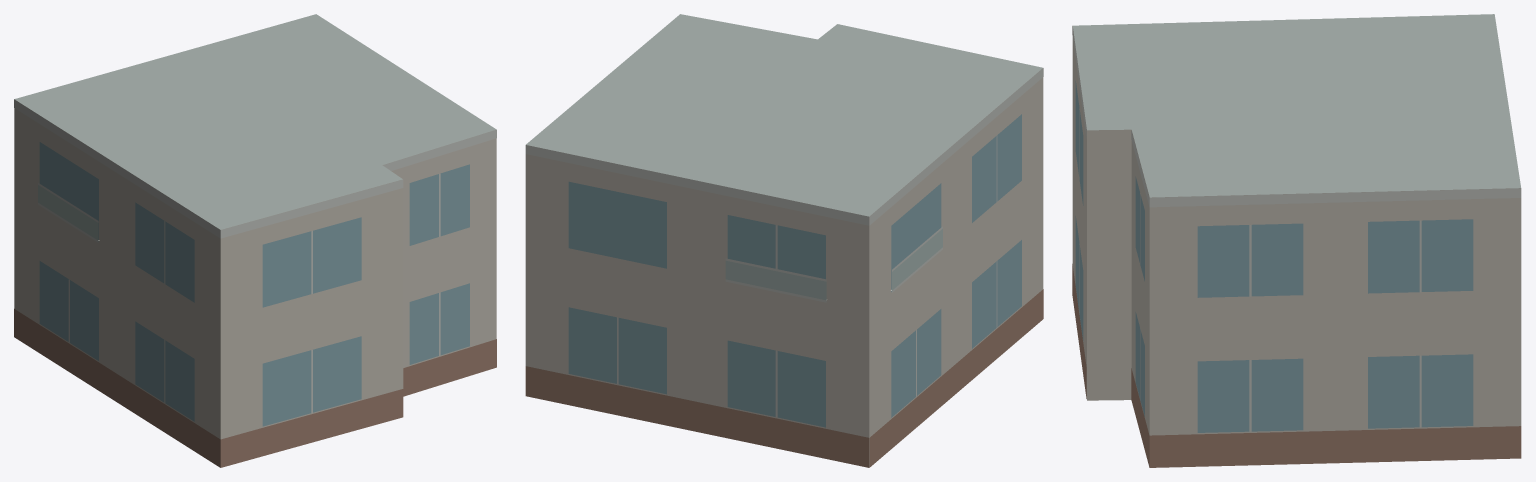
The model's file is survey-upis-32757098.glb.
3 renders of one model, left to right at view 1: azimuth 30°, elevation 25°; view 2: azimuth 150°, elevation 25°; view 3: azimuth 270°, elevation 25°, orthographic. The views are drawn at different scales.
Visible parts, largest first — view 1: survey-upis-32757098.tmp; view 2: survey-upis-32757098.tmp; view 3: survey-upis-32757098.tmp.
Boxes of the visible parts, x1,y1,x2,y2 form: survey-upis-32757098.tmp: (14,14,496,467); survey-upis-32757098.tmp: (525,14,1043,467); survey-upis-32757098.tmp: (1072,14,1521,467).
Size of the model in its own units: 9.76 by 6.7 by 10.09.
